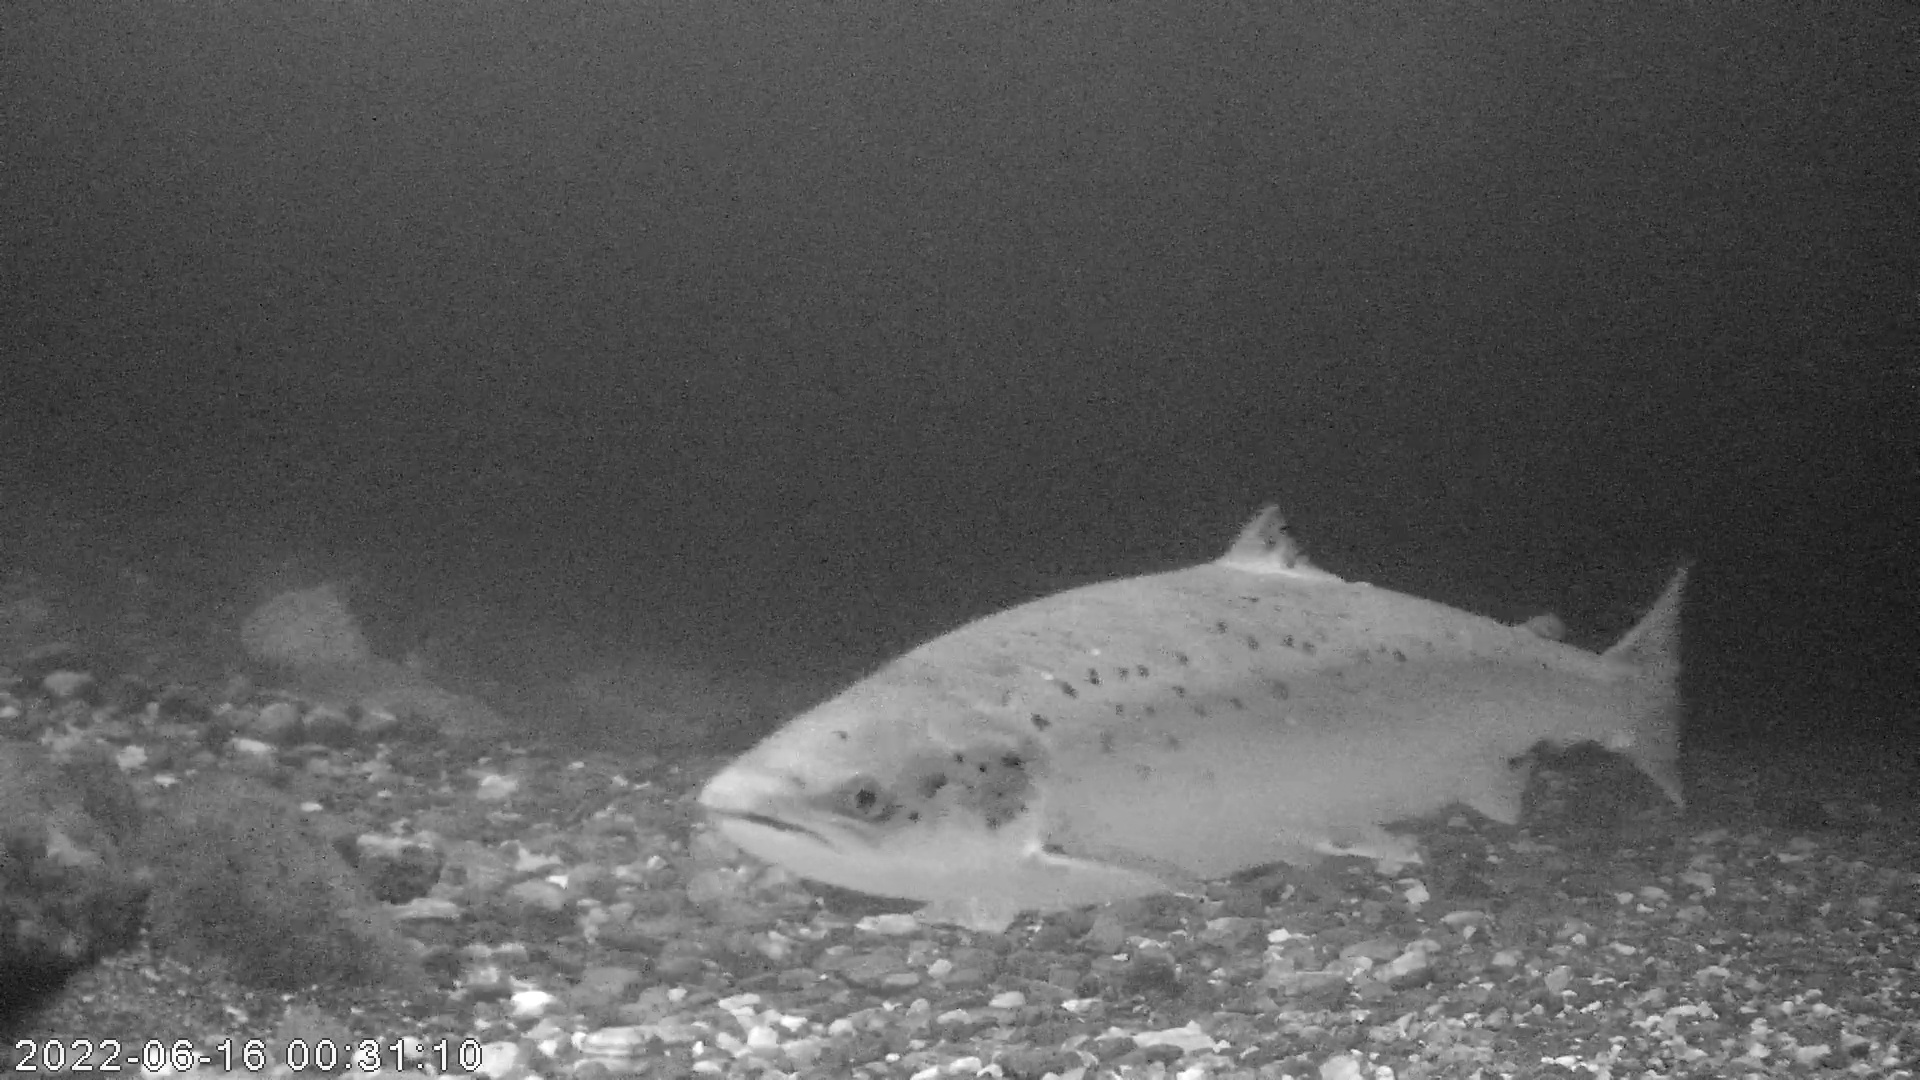salmon: (698, 500, 1695, 915)
